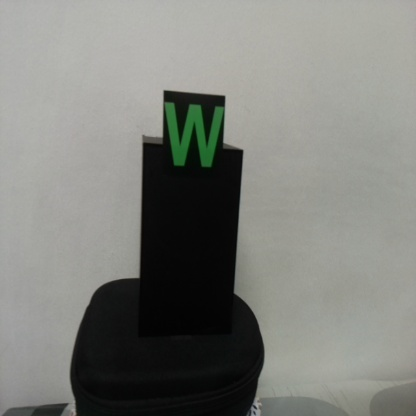id_12: (163, 91, 226, 178)
